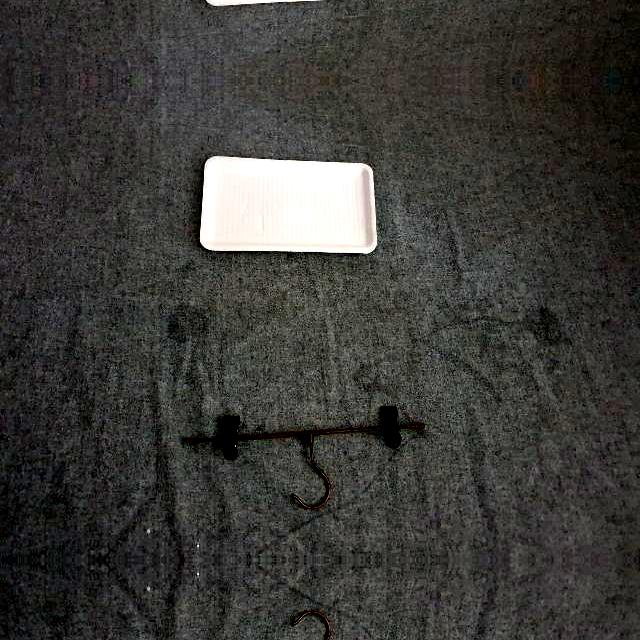Styrofoam: (196, 150, 378, 254), (200, 155, 377, 252)
